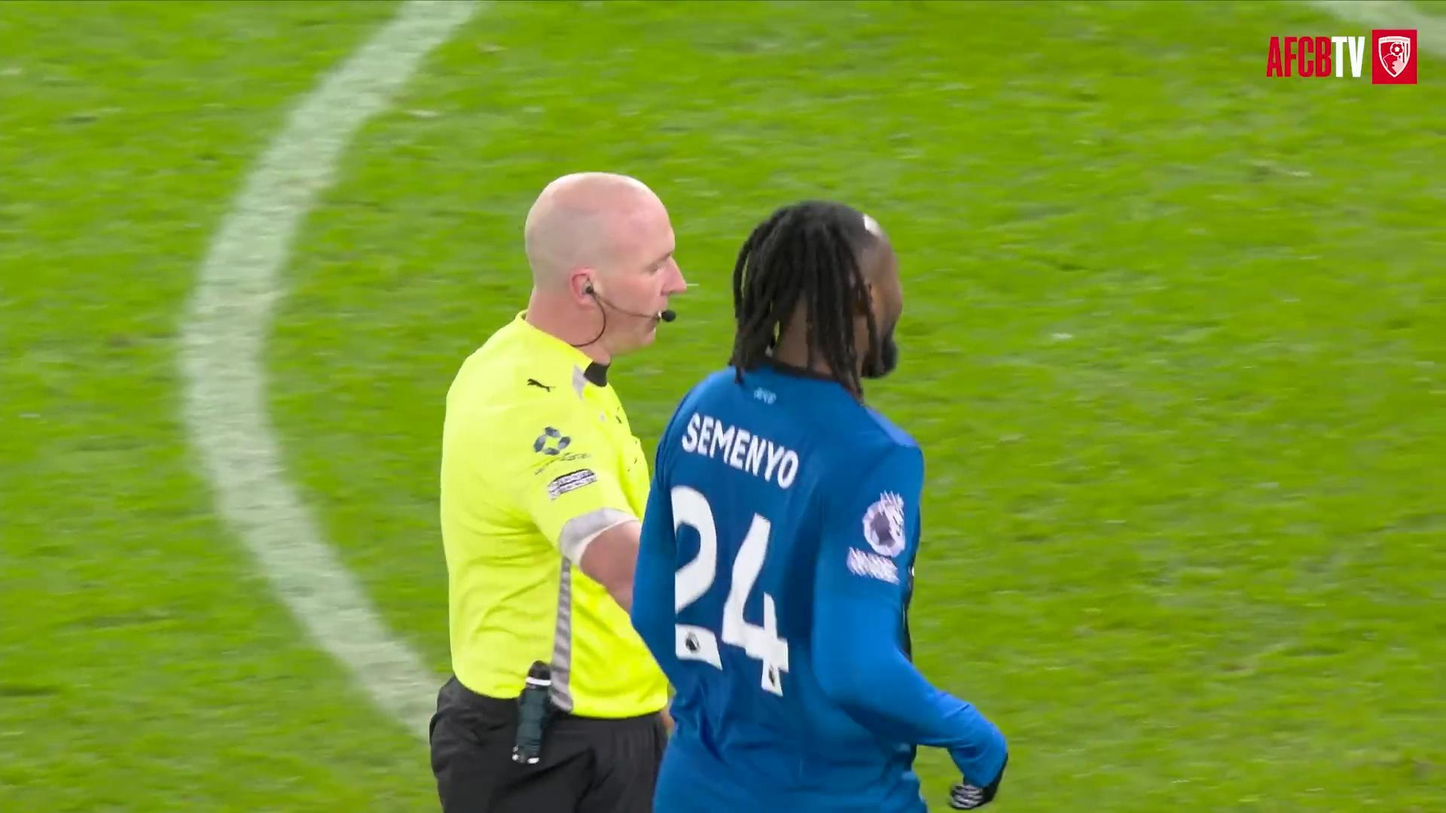player: (631, 202, 1006, 812)
referee: (430, 173, 685, 812)
